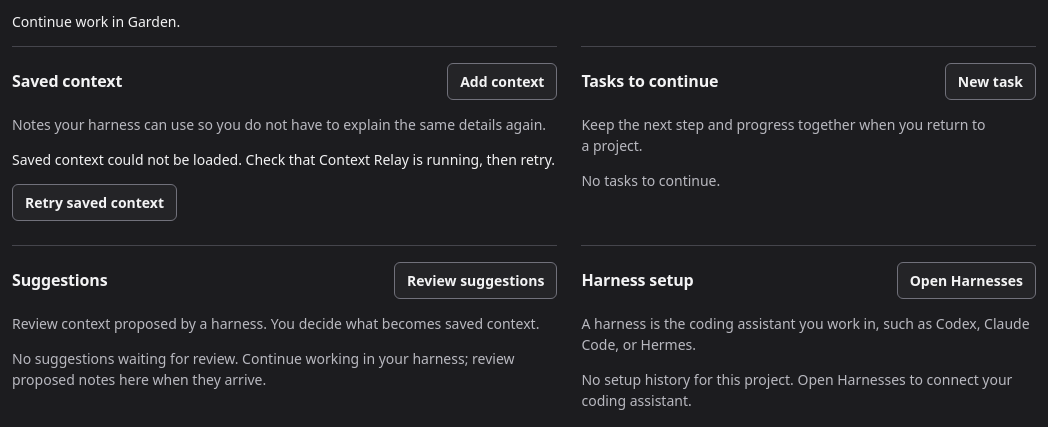
Scenario: isolates a failed section and offers a working retry
The image size is (1048, 427).
Expected: the text "Saved context could not be loaded" is shown, [12,149,558,170]
Expected: the text "No tasks to continue." is shown, [582,171,720,190]
Click the button "Retry saved context" at point(94, 202), box [12,184,177,221]
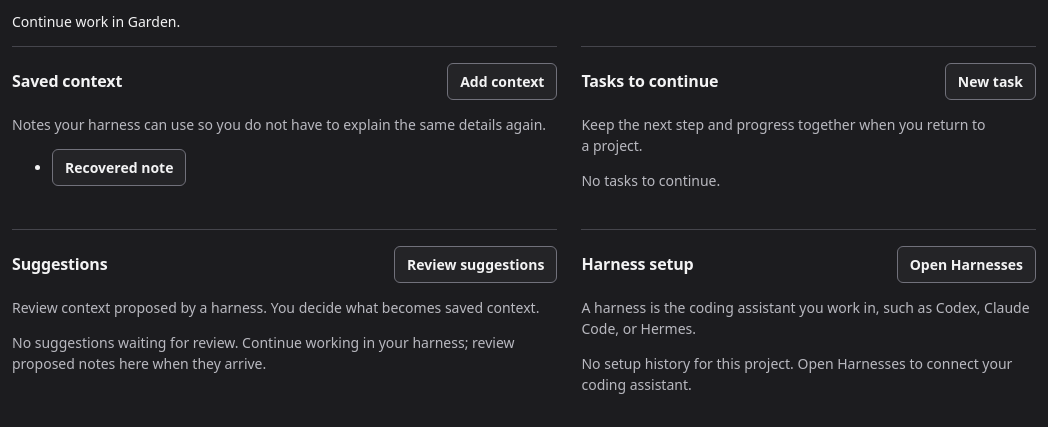
Expected: the button "Recovered note" is shown, [52,149,186,186]
